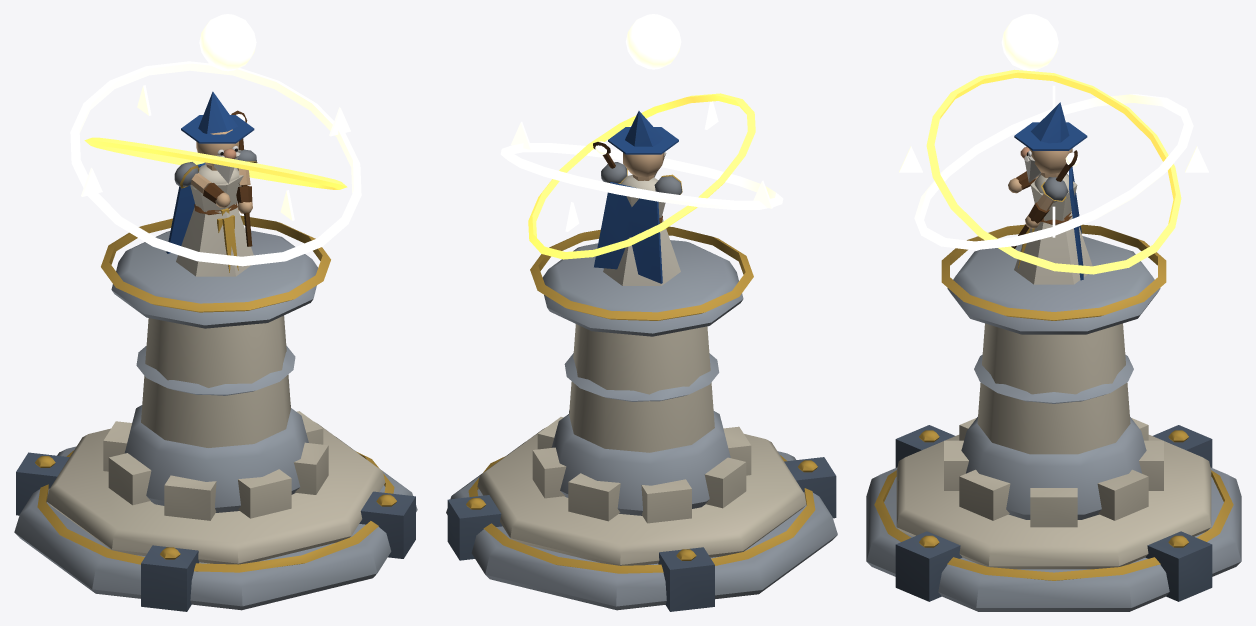
File: alliance_9.glb
The picture shows the model from 3 angles, left to right: view 1: azimuth 30°, elevation 25°; view 2: azimuth 150°, elevation 25°; view 3: azimuth 270°, elevation 25°; orthographic projection. The views are drawn at different scales.
Visible parts, largest first — view 1: alliance_9_peint, Anneaux_lueur, Buste_peint, AnneauB, Crane_peint, OrbeMagique, BrasG_peint, BrasD_peint; view 2: alliance_9_peint, Buste_peint, Anneaux_lueur, AnneauB, Crane_peint, OrbeMagique; view 3: alliance_9_peint, Anneaux_lueur, AnneauB, Buste_peint, Crane_peint, OrbeMagique, BrasD_peint.
Boxes of the visible parts, x1=… form: alliance_9_peint: x1=14, y1=215, x2=417, y2=611; Anneaux_lueur: x1=70, y1=61, x2=361, y2=266; Buste_peint: x1=166, y1=163, x2=253, y2=276; AnneauB: x1=84, y1=137, x2=347, y2=189; Crane_peint: x1=181, y1=91, x2=254, y2=183; OrbeMagique: x1=199, y1=14, x2=256, y2=71; BrasG_peint: x1=174, y1=162, x2=230, y2=207; BrasD_peint: x1=236, y1=149, x2=257, y2=213; alliance_9_peint: x1=446, y1=226, x2=837, y2=611; Buste_peint: x1=594, y1=175, x2=680, y2=285; Anneaux_lueur: x1=500, y1=101, x2=783, y2=231; AnneauB: x1=528, y1=93, x2=755, y2=259; Crane_peint: x1=608, y1=111, x2=678, y2=177; OrbeMagique: x1=625, y1=14, x2=681, y2=69; alliance_9_peint: x1=866, y1=224, x2=1241, y2=611; Anneaux_lueur: x1=899, y1=85, x2=1208, y2=249; AnneauB: x1=926, y1=69, x2=1181, y2=274; Buste_peint: x1=1014, y1=167, x2=1092, y2=284; Crane_peint: x1=1014, y1=102, x2=1087, y2=182; OrbeMagique: x1=1001, y1=14, x2=1058, y2=70; BrasD_peint: x1=1025, y1=177, x2=1068, y2=228.
Size of the model in its own units: 0.7869 by 1.2 by 0.7869.
